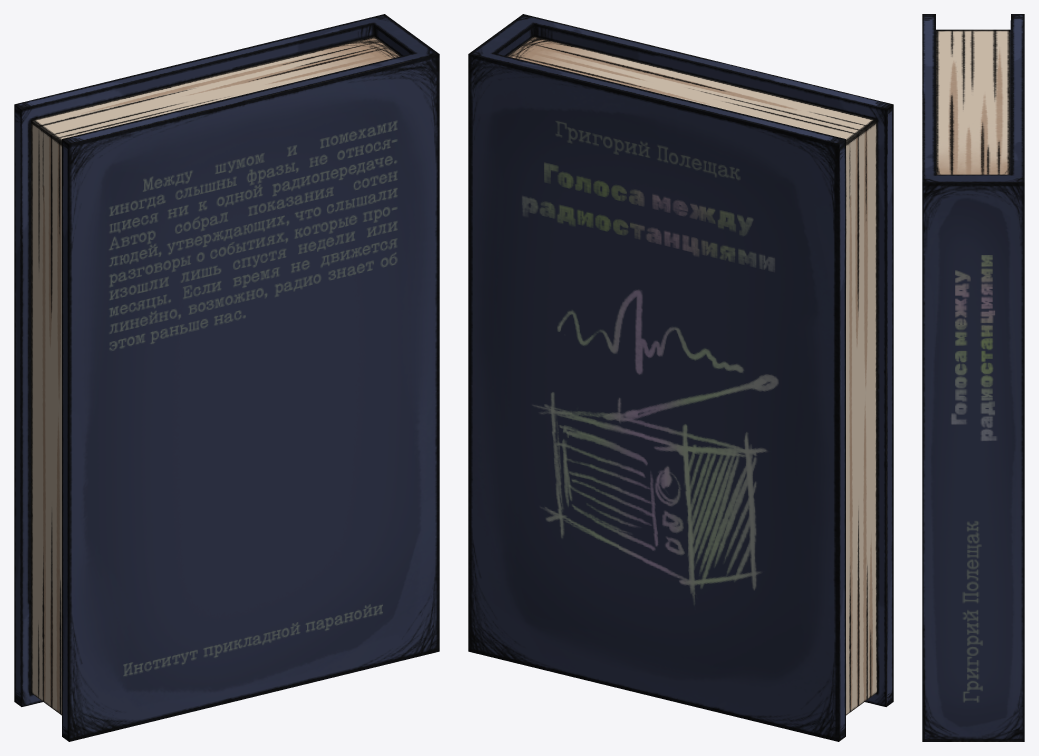
The model's file is book_6.fbx.
3 views of the same model, side by side, from view 1: azimuth 30°, elevation 25°; view 2: azimuth 150°, elevation 25°; view 3: azimuth 270°, elevation 25° (orthographic). The views are drawn at different scales.
Visible parts, largest first — view 1: book_1; view 2: book_1; view 3: book_1.
Part boxes in pixels (x1=…): book_1: x1=14, y1=14, x2=439, y2=741; book_1: x1=468, y1=14, x2=893, y2=741; book_1: x1=922, y1=14, x2=1024, y2=741.
Bounding box in the file's own units: 29.92 × 46.11 × 7.66.
1 material, 1 textured.
